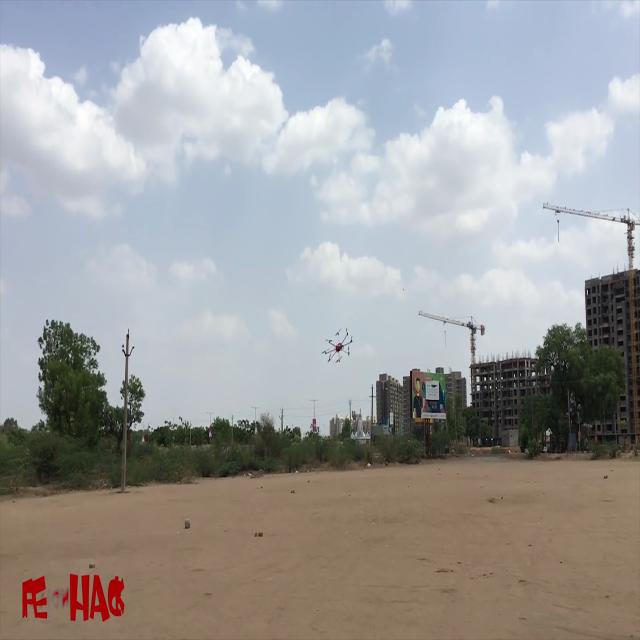drone: (315, 313, 360, 376)
